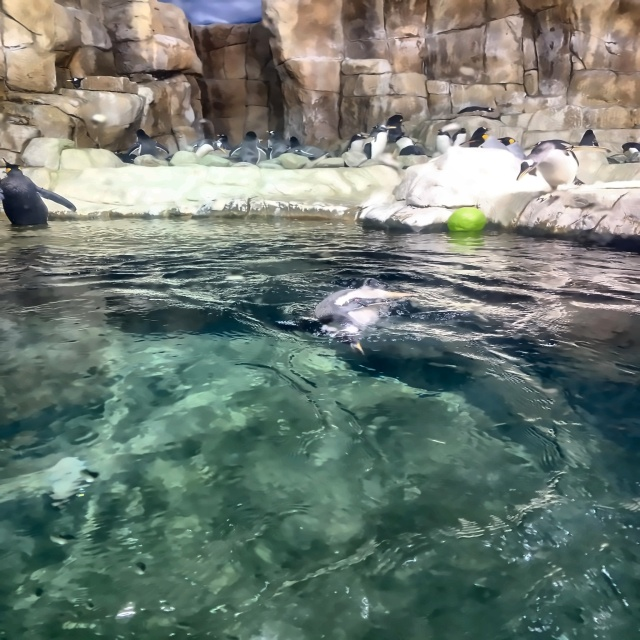penguin: (279, 282, 415, 354), (0, 161, 76, 233), (516, 140, 581, 196), (121, 128, 170, 165), (231, 131, 267, 163), (279, 135, 321, 161), (369, 124, 397, 153), (189, 138, 224, 161), (384, 113, 406, 147), (340, 132, 368, 158), (492, 136, 514, 152), (452, 127, 470, 146), (473, 127, 490, 146), (436, 131, 449, 154), (583, 128, 598, 145), (623, 140, 639, 153)
